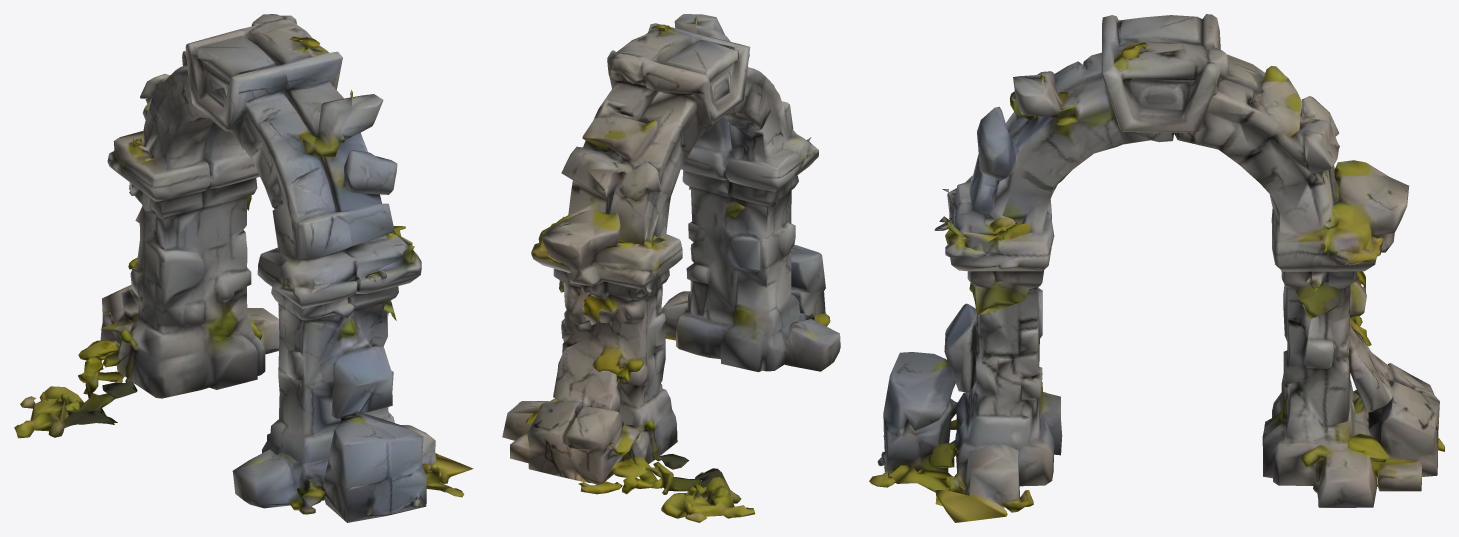
The model's file is ruin_archway.glb.
3 renders of one model, left to right at view 1: azimuth 30°, elevation 25°; view 2: azimuth 150°, elevation 25°; view 3: azimuth 270°, elevation 25°, orthographic. The views are drawn at different scales.
Parts seen in each view (by area): view 1: tripo_node_86151fdb-ccfd-401c-b37d-7ca382d78919; view 2: tripo_node_86151fdb-ccfd-401c-b37d-7ca382d78919; view 3: tripo_node_86151fdb-ccfd-401c-b37d-7ca382d78919.
Boxes of the visible parts, left/top/right/bottom form: tripo_node_86151fdb-ccfd-401c-b37d-7ca382d78919: left=14, top=14, right=473, bottom=522; tripo_node_86151fdb-ccfd-401c-b37d-7ca382d78919: left=502, top=14, right=840, bottom=522; tripo_node_86151fdb-ccfd-401c-b37d-7ca382d78919: left=869, top=14, right=1444, bottom=522.
Size of the model in its own units: 0.6184 by 0.8814 by 0.9977.
1 material, 1 textured.
